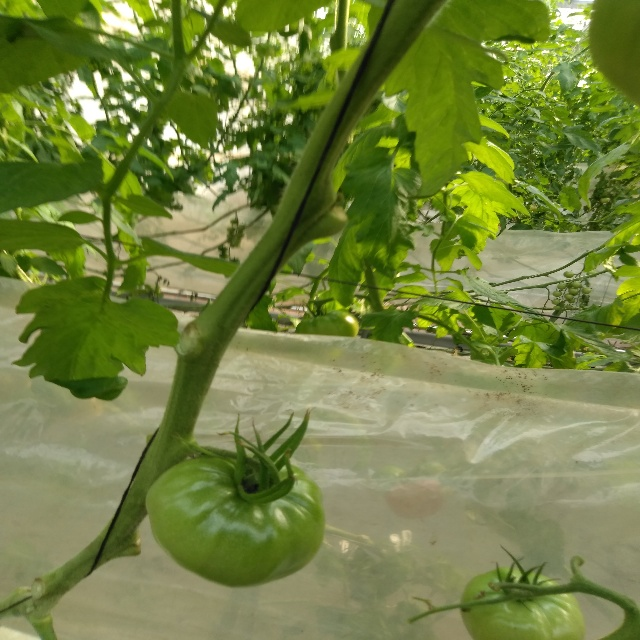b_green: (146, 453, 326, 588), (461, 566, 585, 640), (295, 310, 360, 337)
